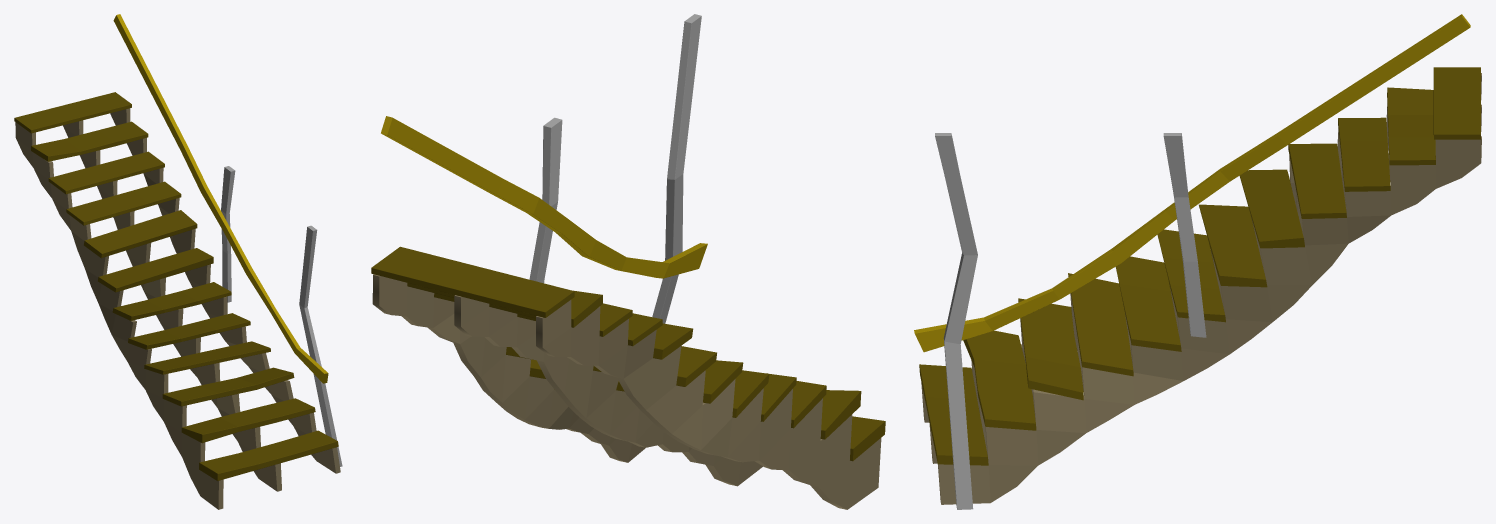
The model's file is geo_basement_stairs_high.fbx.
The picture shows the model from 3 angles, left to right: view 1: azimuth 30°, elevation 25°; view 2: azimuth 150°, elevation 25°; view 3: azimuth 270°, elevation 25°; orthographic projection. The views are drawn at different scales.
Parts seen in each view (by area): view 1: geo_basement_stairs:step_1, geo_basement_stairs:step_support3, geo_basement_stairs:step_rail, geo_basement_stairs:step_railsupport1; view 2: geo_basement_stairs:step_support3, geo_basement_stairs:step_1, geo_basement_stairs:step_railsupport1, geo_basement_stairs:step_rail; view 3: geo_basement_stairs:step_1, geo_basement_stairs:step_support3, geo_basement_stairs:step_rail, geo_basement_stairs:step_railsupport1.
Boxes of the visible parts, <box> form: geo_basement_stairs:step_1: <box>14,92,338,480</box>; geo_basement_stairs:step_support3: <box>15,108,340,509</box>; geo_basement_stairs:step_rail: <box>113,14,328,383</box>; geo_basement_stairs:step_railsupport1: <box>221,166,342,466</box>; geo_basement_stairs:step_support3: <box>372,274,881,509</box>; geo_basement_stairs:step_1: <box>371,246,885,461</box>; geo_basement_stairs:step_railsupport1: <box>529,14,701,323</box>; geo_basement_stairs:step_rail: <box>381,116,707,278</box>; geo_basement_stairs:step_1: <box>919,67,1480,465</box>; geo_basement_stairs:step_support3: <box>921,73,1481,504</box>; geo_basement_stairs:step_rail: <box>914,14,1470,352</box>; geo_basement_stairs:step_railsupport1: <box>935,133,1206,509</box>.
Size of the model in its own units: 141 by 316 by 349.
